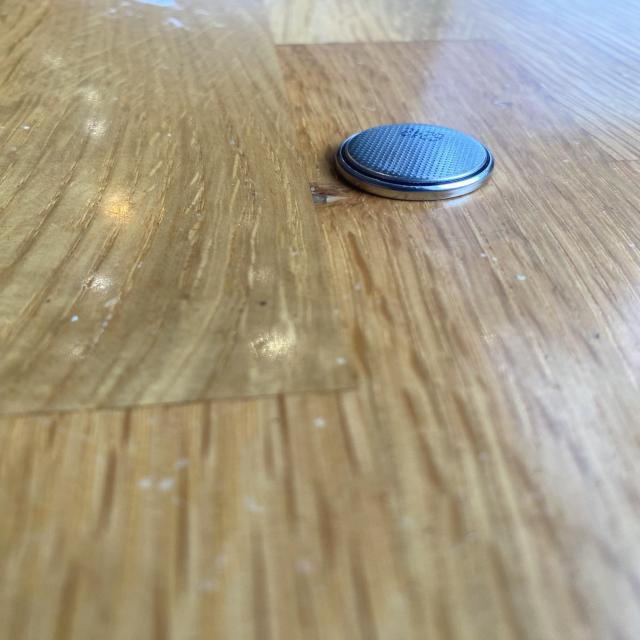COIN: (333, 121, 497, 201)
